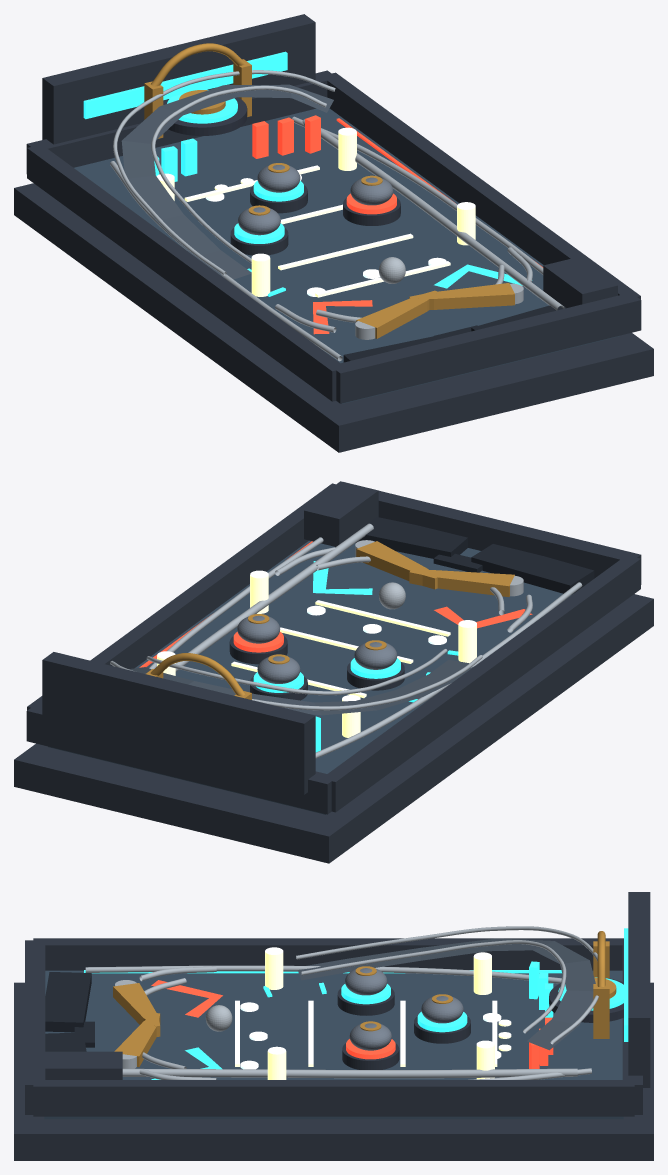
The model's file is infinite-pinball-base-v3.glb.
The picture shows the model from 3 angles, top to bottom: view 1: azimuth 30°, elevation 25°; view 2: azimuth 150°, elevation 25°; view 3: azimuth 270°, elevation 25°; orthographic projection.
Parts seen in each view (by area): view 1: Playfield, Cabinet_Base, Rail_Left, Rail_Bottom, Back_Crest, Rail_Right, Ramp_Main, Rail_Top, Back_Crest_Light, Plunger_Housing, Shooter_Lane_Rail, Ramp_Main_Rail_R (+22 smaller); view 2: Cabinet_Base, Playfield, Back_Crest, Rail_Left, Rail_Right, Rail_Bottom, Rail_Top, Plunger_Housing, Apron_Left, Ramp_Main, Apron_Right, Shooter_Lane_Rail (+22 smaller); view 3: Playfield, Cabinet_Base, Rail_Right, Rail_Left, Ramp_Main, Back_Crest, Shooter_Lane_Rail, Rail_Bottom, Apron_Left, Plunger_Housing, Guide_Left, Ramp_Main_Rail_R (+29 smaller).
Boxes of the visible parts, <box> form: Playfield: <box>74,108,619,403</box>; Cabinet_Base: <box>14,183,653,452</box>; Rail_Left: <box>27,144,346,401</box>; Rail_Bottom: <box>330,294,641,403</box>; Back_Crest: <box>42,14,315,144</box>; Rail_Right: <box>322,72,640,299</box>; Ramp_Main: <box>121,84,333,279</box>; Rail_Top: <box>26,70,336,173</box>; Back_Crest_Light: <box>83,51,287,119</box>; Plunger_Housing: <box>543,257,617,307</box>; Shooter_Lane_Rail: <box>302,119,564,310</box>; Ramp_Main_Rail_R: <box>113,70,335,275</box>; Cabinet_Base: <box>14,594,653,863</box>; Playfield: <box>48,540,572,814</box>; Back_Crest: <box>42,652,315,794</box>; Rail_Left: <box>322,555,640,812</box>; Rail_Right: <box>27,483,336,710</box>; Rail_Bottom: <box>330,481,641,584</box>; Rail_Top: <box>26,704,332,814</box>; Plunger_Housing: <box>304,482,378,546</box>; Apron_Left: <box>471,544,594,594</box>; Ramp_Main: <box>129,659,474,715</box>; Apron_Right: <box>356,517,467,558</box>; Shooter_Lane_Rail: <box>175,523,373,671</box>; Playfield: <box>44,970,623,1119</box>; Cabinet_Base: <box>14,982,653,1160</box>; Rail_Right: <box>33,1080,634,1116</box>; Rail_Left: <box>33,938,623,970</box>; Ramp_Main: <box>298,938,595,1050</box>; Back_Crest: <box>628,892,650,1087</box>; Shooter_Lane_Rail: <box>122,1068,577,1078</box>; Rail_Bottom: <box>25,940,45,1114</box>; Apron_Left: <box>45,972,91,1032</box>; Plunger_Housing: <box>45,1051,122,1079</box>; Guide_Left: <box>85,965,561,983</box>; Ramp_Main_Rail_R: <box>296,926,598,1044</box>.
Size of the model in its own units: 3.9 by 1.78 by 6.96.
